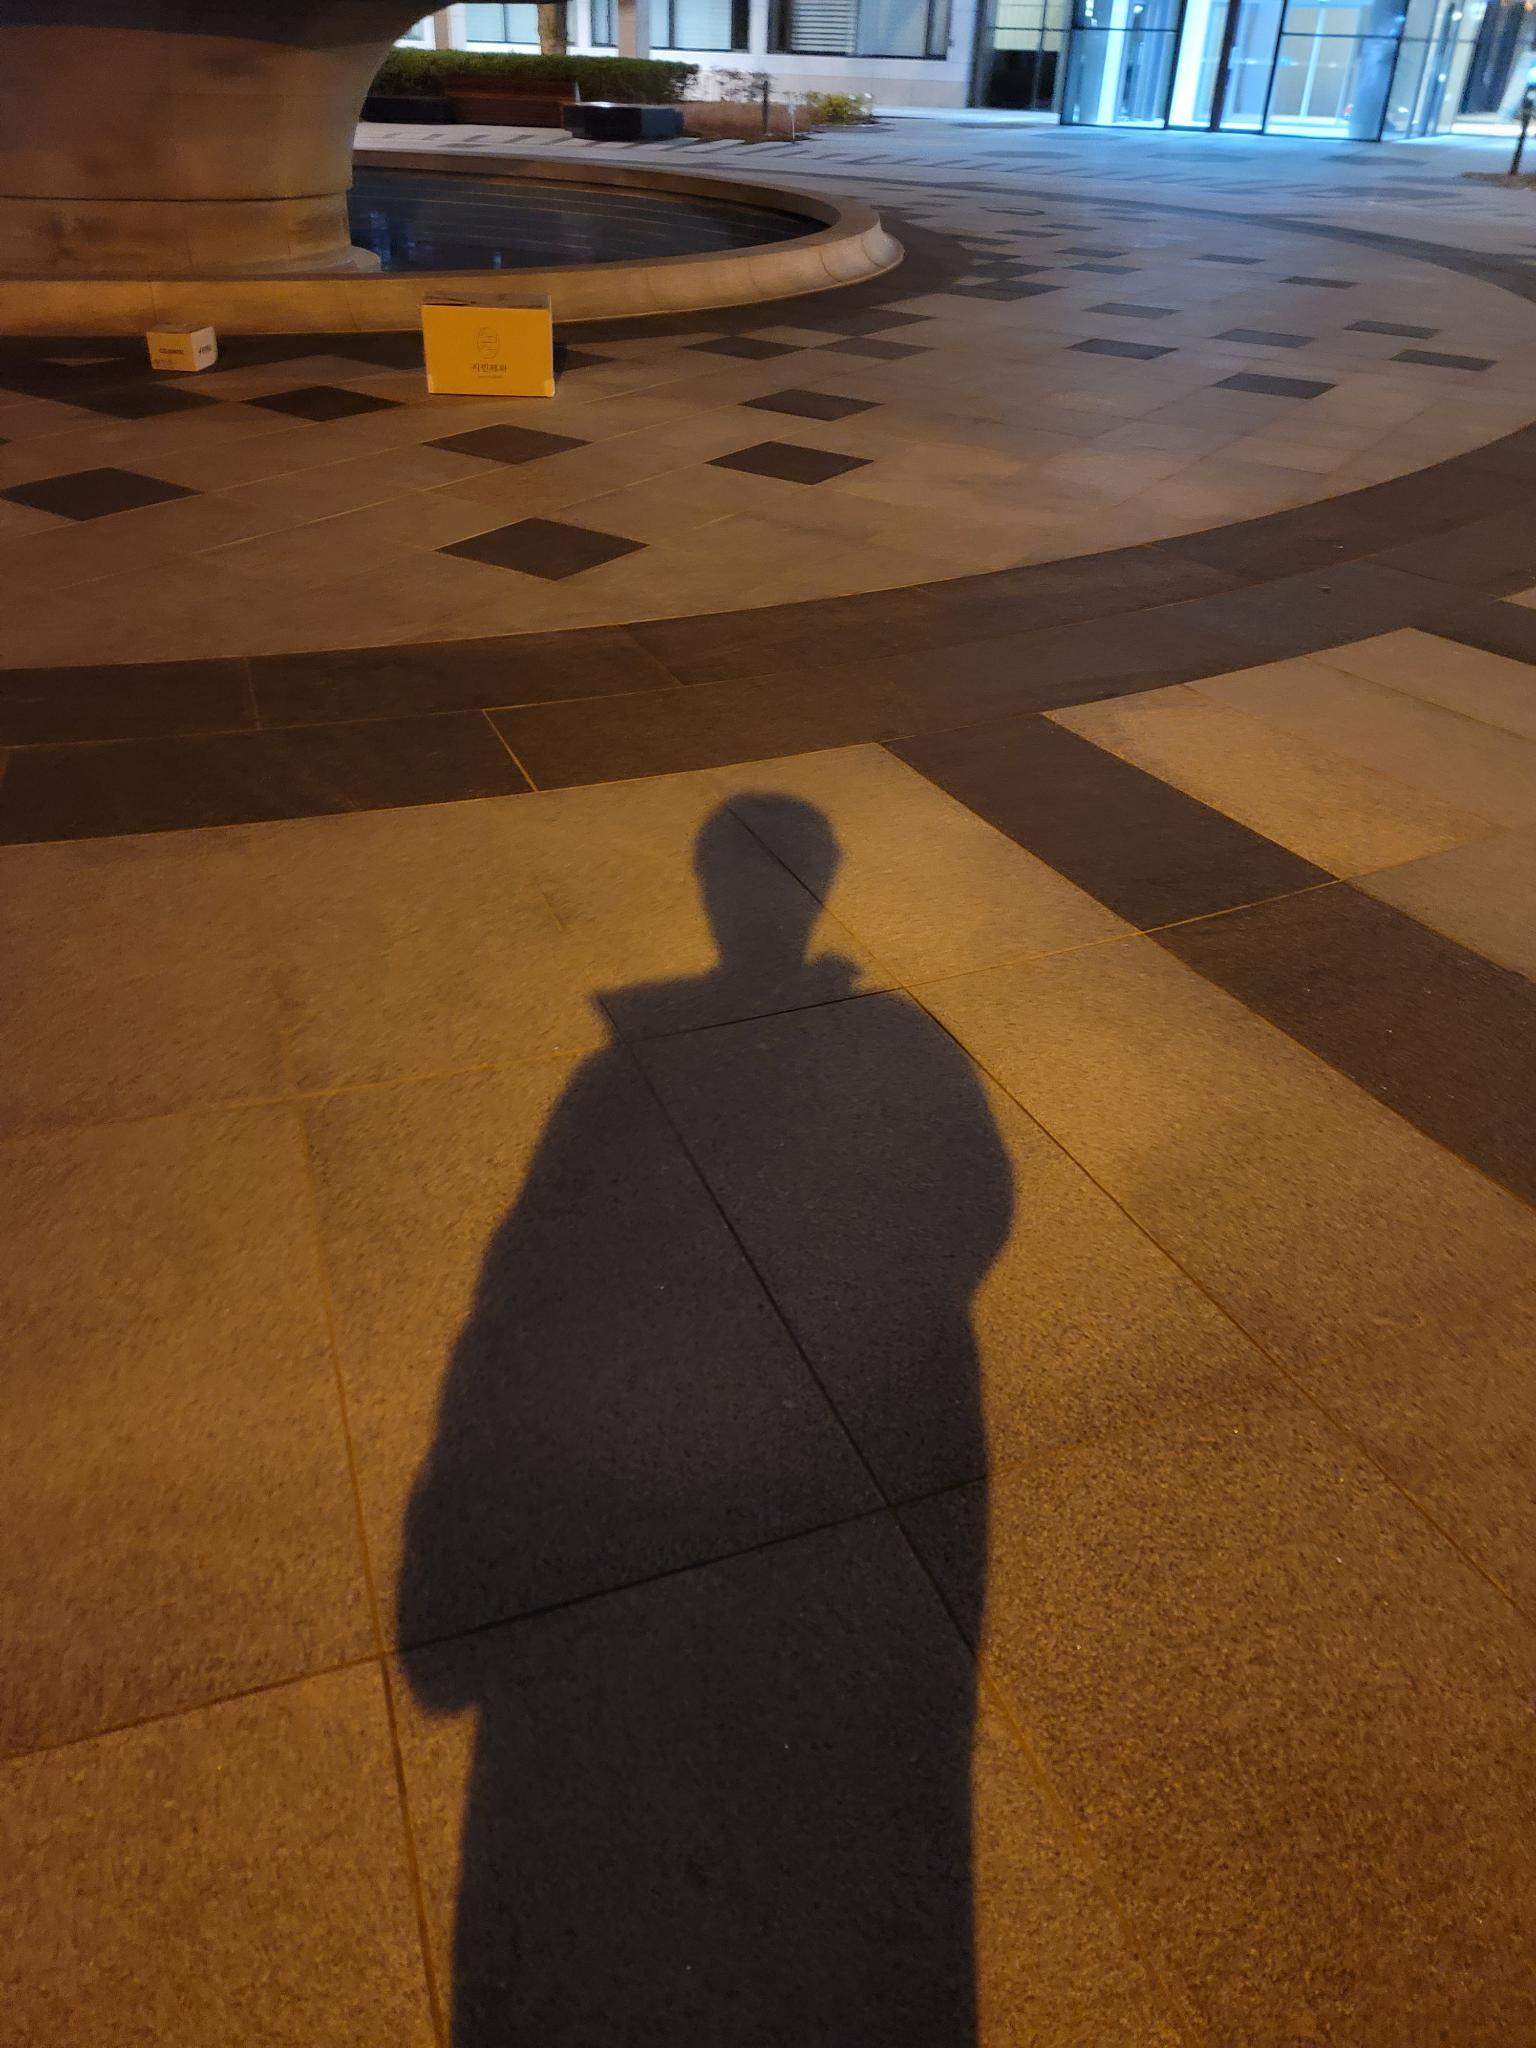Box: (413, 282, 568, 410), (124, 300, 231, 384)
